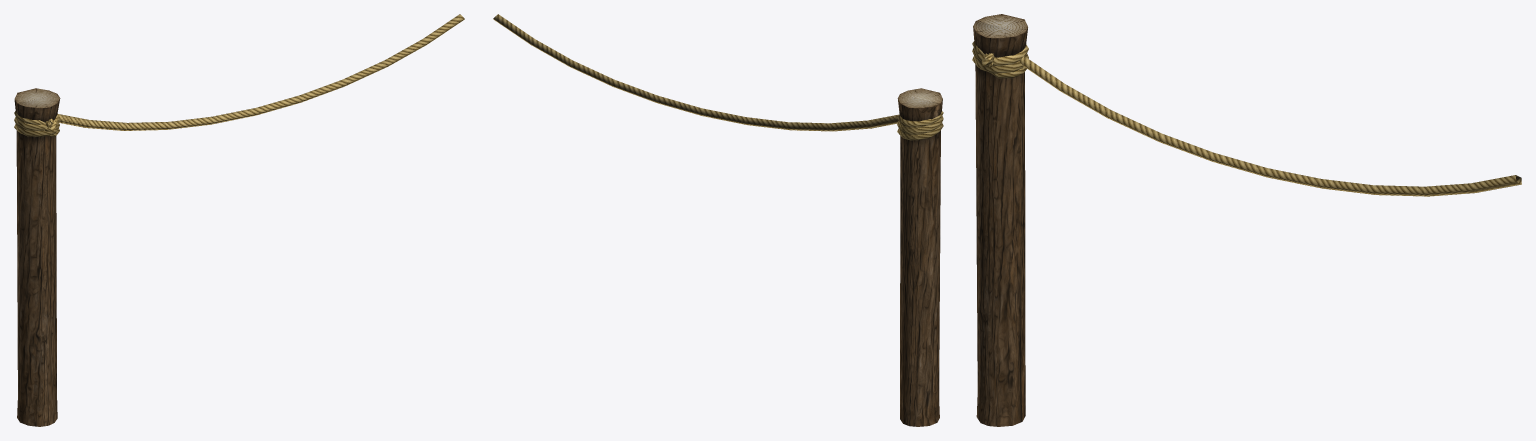
File: FenceRopeSegment.obj
The picture shows the model from 3 angles, left to right: view 1: azimuth 30°, elevation 25°; view 2: azimuth 150°, elevation 25°; view 3: azimuth 330°, elevation 25°; orthographic projection. The views are drawn at different scales.
Parts seen in each view (by area): view 1: Mesh; view 2: Mesh; view 3: Mesh.
Boxes of the visible parts, bbox=[...] form: Mesh: bbox=[14, 14, 464, 426]; Mesh: bbox=[493, 14, 943, 426]; Mesh: bbox=[972, 14, 1521, 426].
Bounding box in the file's own units: 2.91 × 1.99 × 0.3065.
